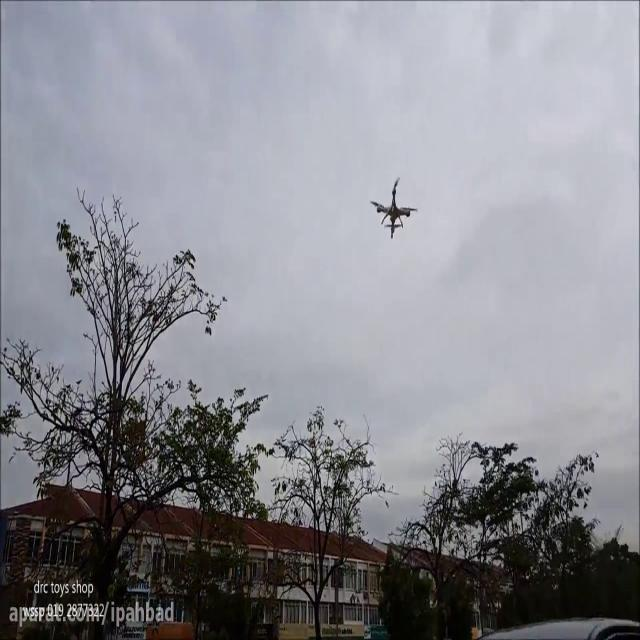drone: (368, 175, 418, 240)
